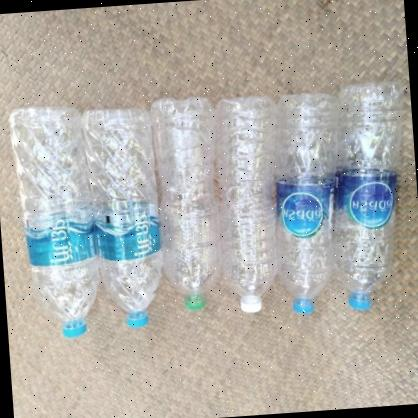bottle: (322, 81, 418, 312), (12, 102, 103, 342), (88, 102, 166, 338), (266, 89, 339, 316), (154, 95, 228, 313), (212, 93, 279, 314)
cap: (60, 320, 88, 340), (125, 311, 150, 332), (348, 292, 372, 312), (292, 298, 315, 315), (182, 296, 206, 310), (240, 298, 262, 312)
label: (333, 168, 403, 230), (97, 196, 161, 263), (26, 207, 96, 268), (276, 180, 332, 243)
